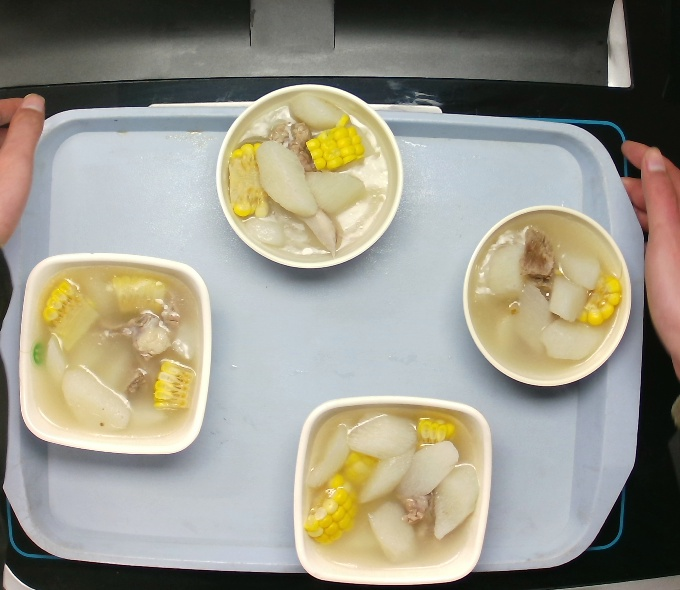wcq-ShanYaoYuMiTang: (216, 84, 406, 267), (22, 260, 199, 444), (302, 408, 485, 582), (466, 209, 630, 382)
